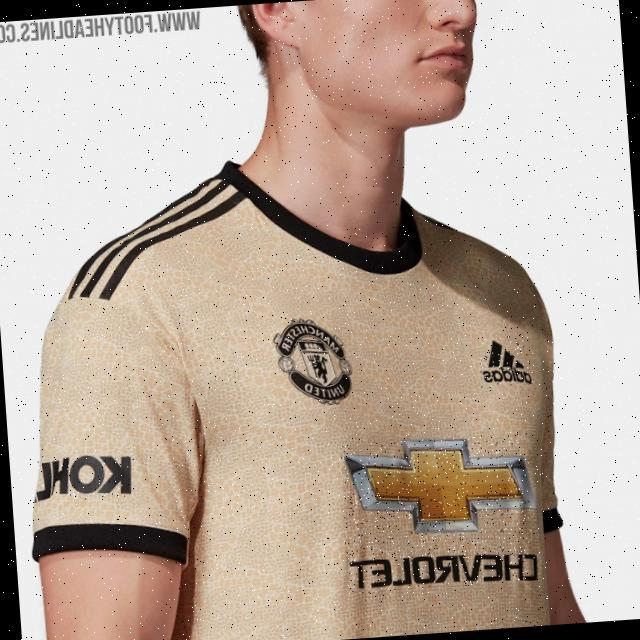Adidas: (477, 334, 535, 388)
Chevrolet: (338, 432, 537, 594)
Kohler: (30, 449, 137, 507)
